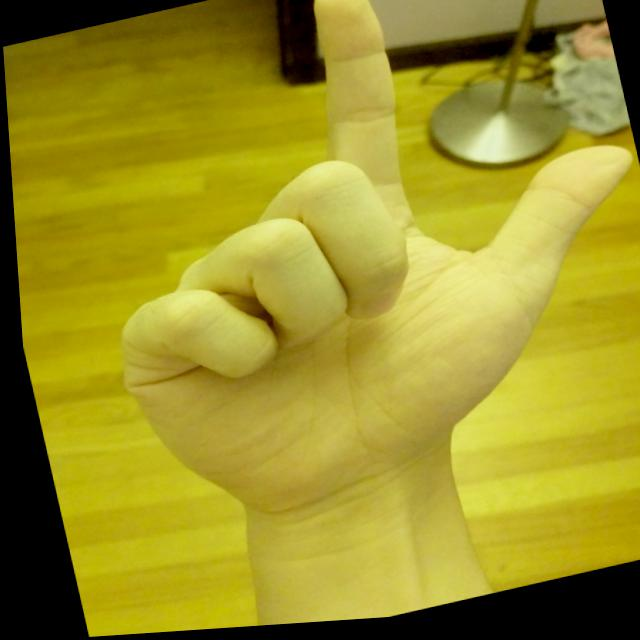L: (33, 0, 639, 554)
